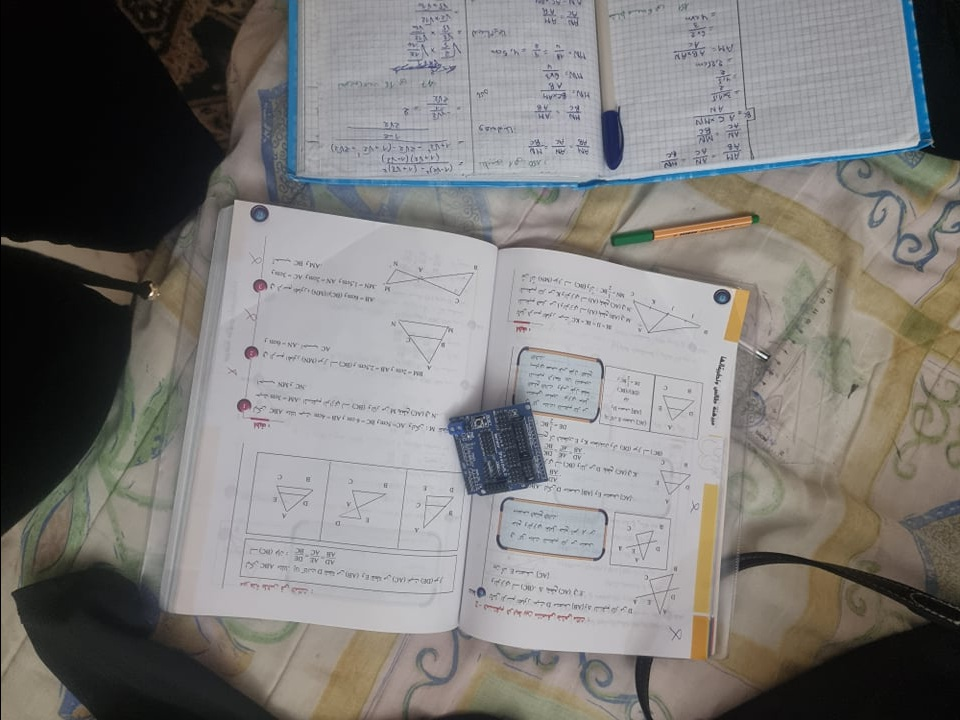5V EXPANSION: (444, 403, 548, 497)
